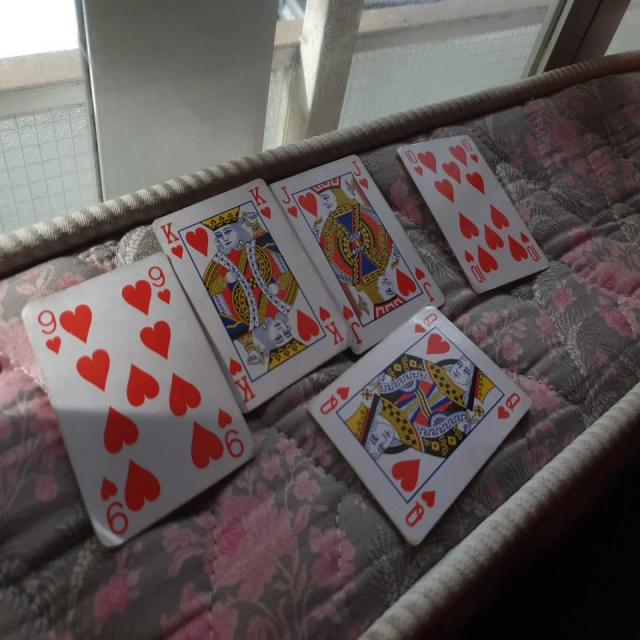10 Hearts: (396, 130, 554, 301)
9 Hearts: (25, 252, 256, 572)
J Hearts: (272, 150, 445, 361)
K Hearts: (146, 177, 353, 411)
Q Hearts: (305, 308, 530, 561)
